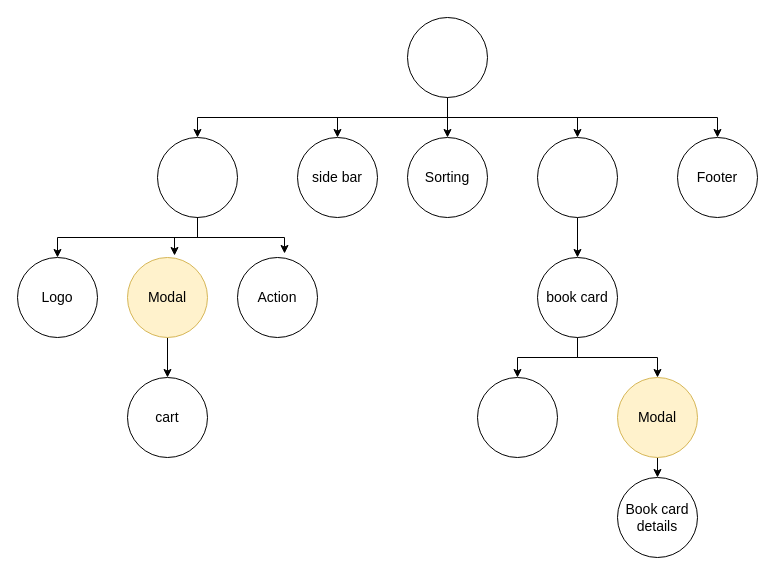
Some shapes in this 775 by 575 pixel diagram are drawn without their labels. The centre of each missing label's shape, as x and y in pixels:
"App" belongs at point (447, 57).
"Book list" belongs at point (577, 177).
"Header" belongs at point (197, 177).
"Ratting" belongs at point (517, 417).
